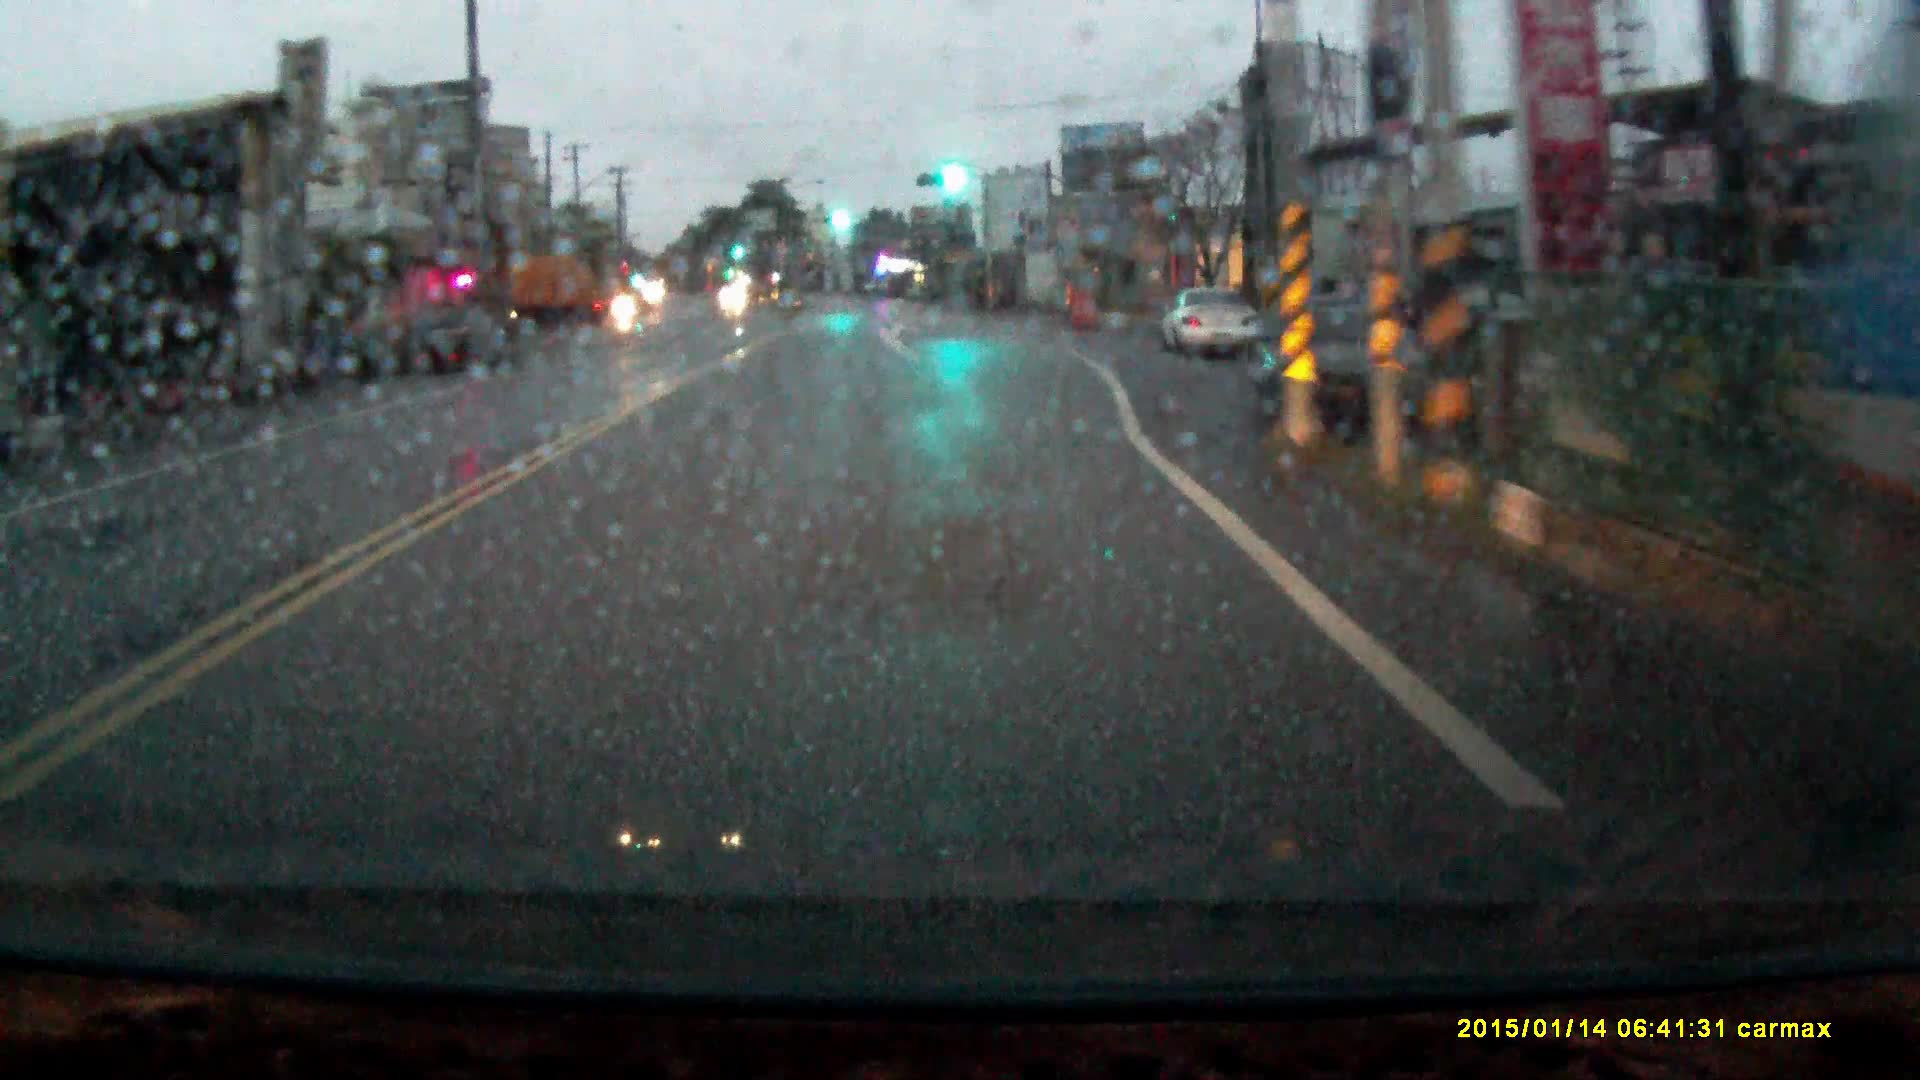rider: (609, 283, 640, 341)
vehicle: (1243, 300, 1437, 442), (502, 257, 602, 340), (1154, 288, 1259, 360), (401, 314, 507, 379)
